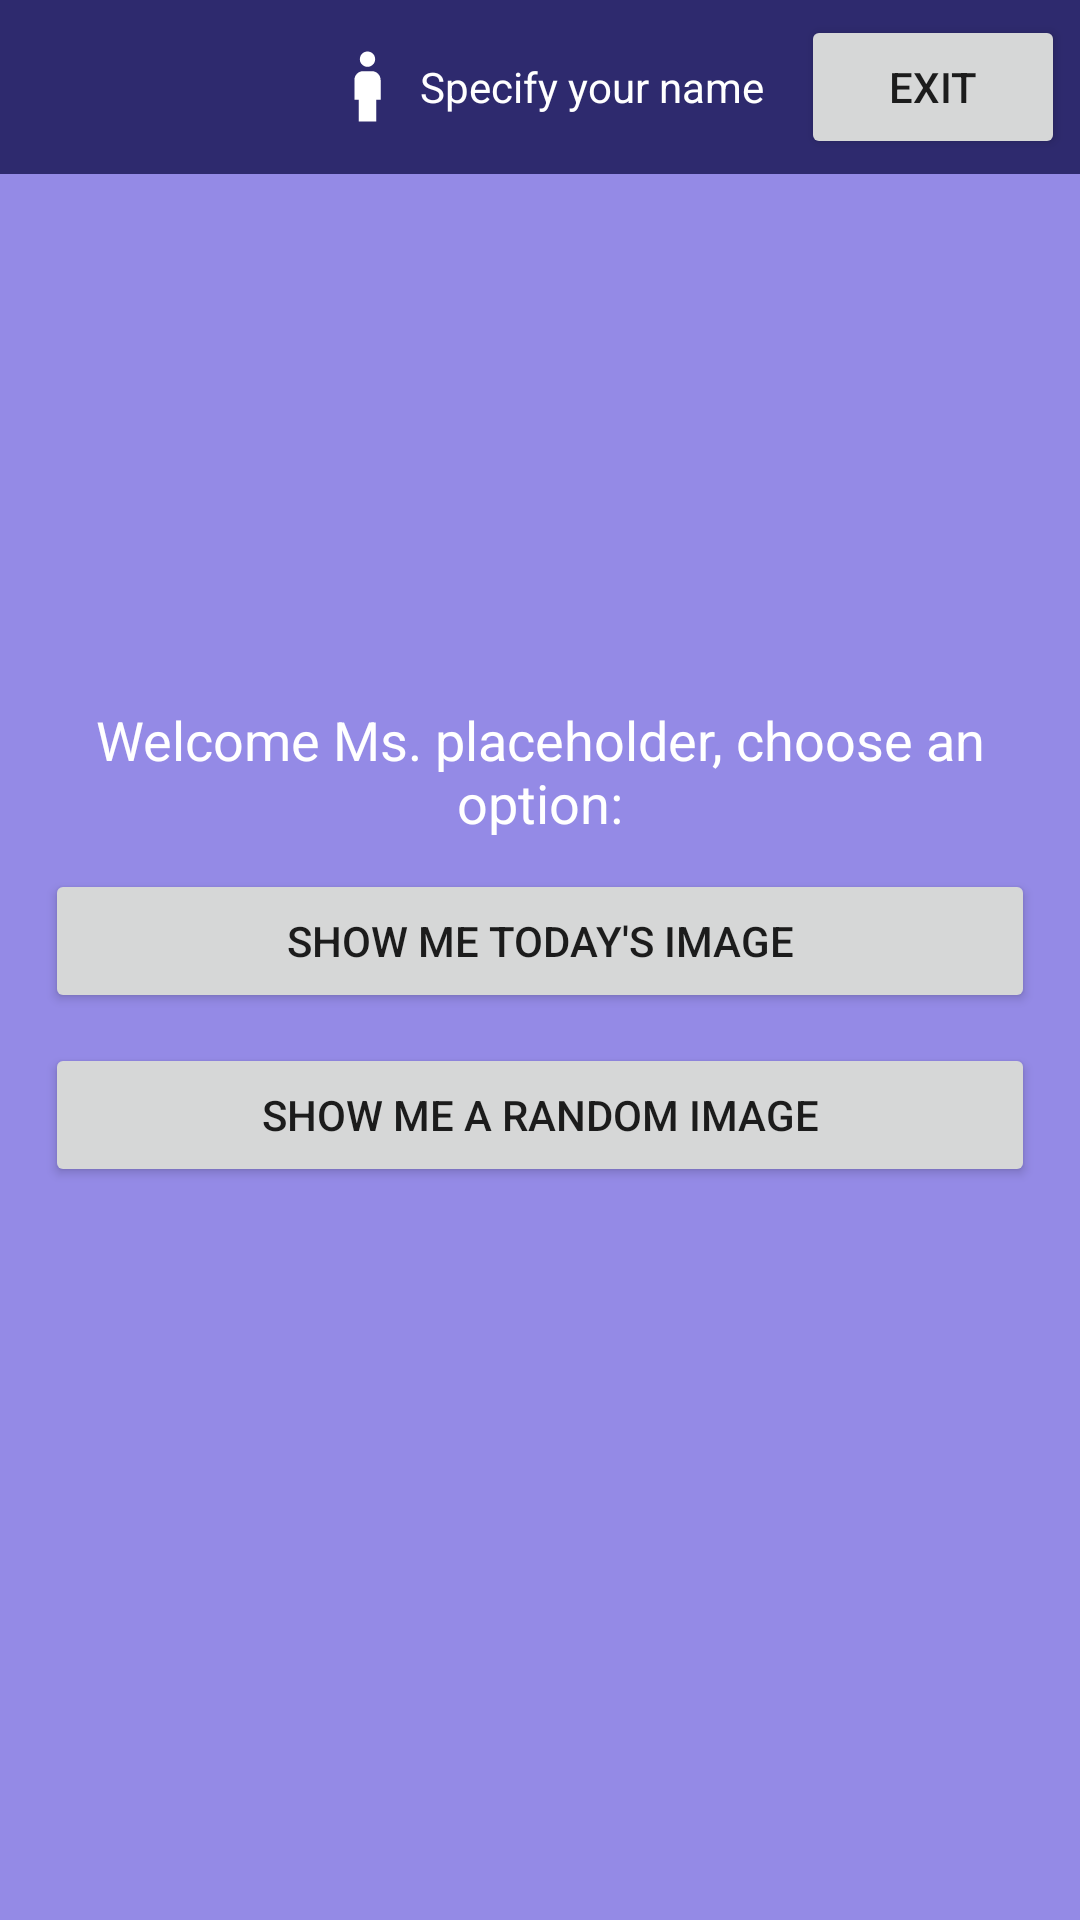

Locate icon controls on the screen. Image size 1080 × 1920, boxes as (x1, y1, x2, y2).
male user: (354, 51, 381, 122)
